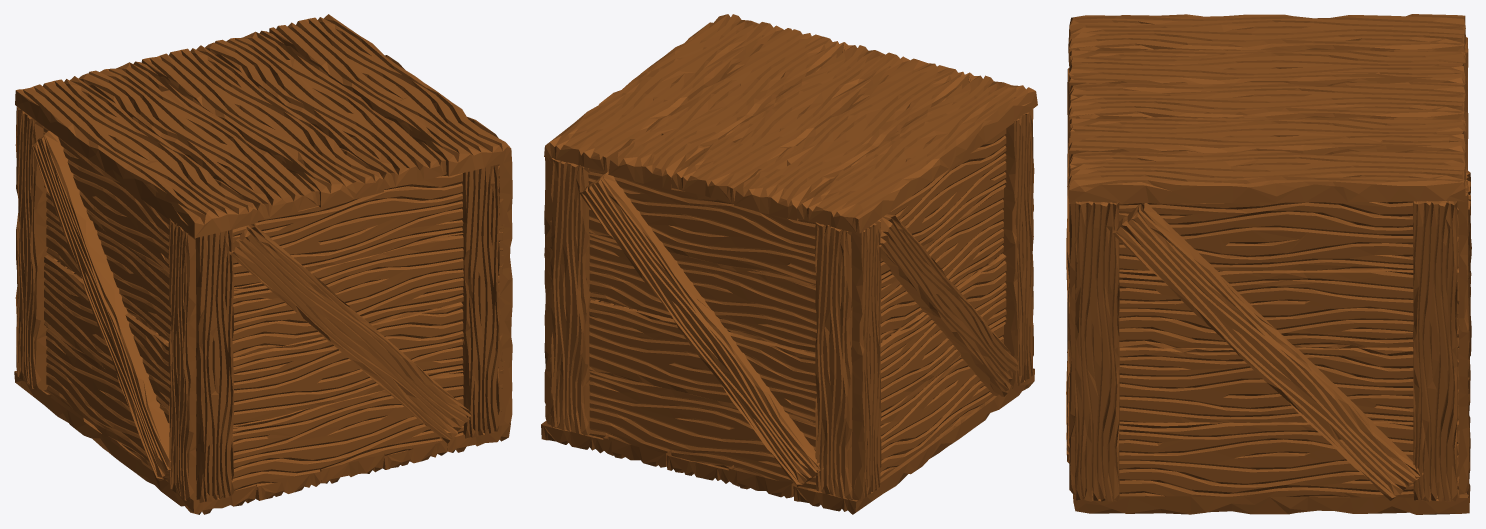
Rendered from Crate.glb.
3 views of the same model, side by side, from view 1: azimuth 30°, elevation 25°; view 2: azimuth 150°, elevation 25°; view 3: azimuth 270°, elevation 25° (orthographic). The views are drawn at different scales.
Parts seen in each view (by area): view 1: Plane.034, Plane.030, Plane.017, Plane.008, Plane.038, Plane.037, Plane.035, Plane.036, Plane.026, Plane.050, Plane.010, Plane.052 (+13 smaller); view 2: Plane.034, Plane.047, Plane.014, Plane.035, Plane.036, Plane.038, Plane.005, Plane.037, Plane.029, Plane.033, Plane.049, Plane.048 (+13 smaller); view 3: Plane.038, Plane.007, Plane.031, Plane.046, Plane.015, Plane.028, Plane.037, Plane.034, Plane.036, Plane.035, Plane.044, Plane.045 (+5 smaller).
Part boxes in pixels (x1,y1,x2,y2): Plane.034: (15, 76, 257, 238); Plane.030: (232, 224, 504, 357); Plane.017: (233, 294, 499, 428); Plane.008: (231, 362, 504, 490); Plane.038: (269, 14, 511, 176); Plane.037: (141, 45, 383, 207); Plane.035: (78, 61, 320, 220); Plane.036: (205, 30, 446, 189); Plane.026: (232, 164, 499, 290); Plane.050: (229, 223, 471, 443); Plane.010: (31, 131, 171, 480); Plane.052: (195, 229, 234, 502); Plane.034: (797, 75, 1037, 233); Plane.047: (579, 171, 823, 486); Plane.014: (589, 300, 816, 424); Plane.035: (734, 58, 973, 220); Plane.036: (608, 28, 847, 189); Plane.038: (544, 14, 783, 171); Plane.005: (554, 370, 816, 489); Plane.037: (671, 45, 909, 202); Plane.029: (588, 168, 816, 287); Plane.033: (589, 233, 816, 352); Plane.049: (551, 158, 593, 435); Plane.048: (815, 222, 852, 499); Plane.038: (1068, 150, 1465, 203); Plane.007: (1119, 421, 1459, 497); Plane.031: (1118, 269, 1459, 348); Plane.046: (1112, 203, 1423, 500); Plane.015: (1074, 347, 1413, 422); Plane.028: (1074, 201, 1413, 271); Plane.037: (1068, 82, 1465, 133); Plane.034: (1068, 14, 1465, 65); Plane.036: (1068, 117, 1466, 165); Plane.035: (1068, 49, 1466, 97); Plane.044: (1075, 201, 1119, 501); Plane.045: (1413, 201, 1457, 501).
Size of the model in its own units: 1.06 by 0.9333 by 1.03.
